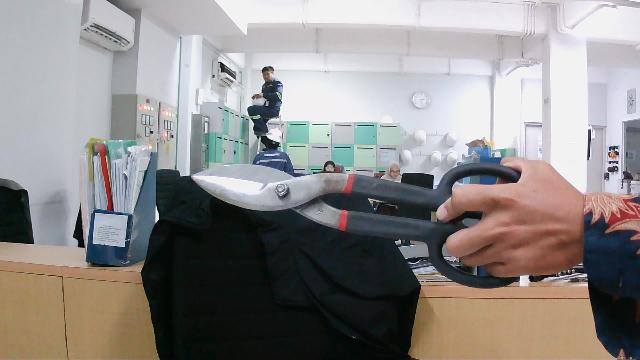gunting_plat: (180, 148, 557, 294)
